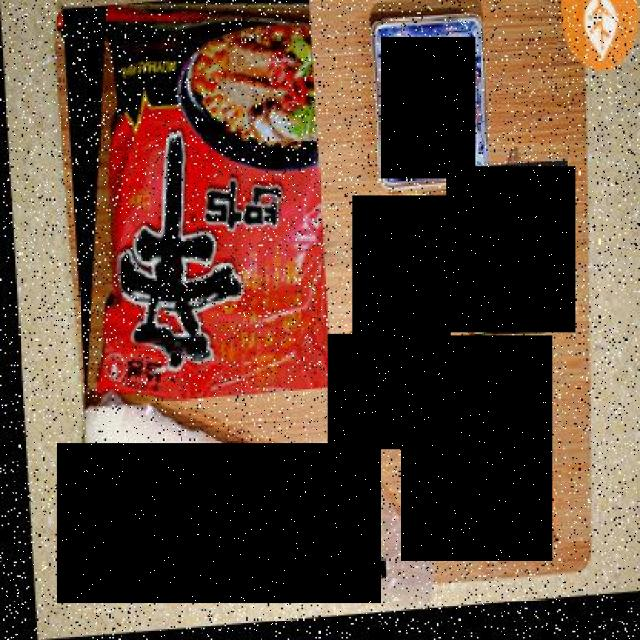Chili_Powder: (380, 36, 475, 179)
Egg: (328, 334, 420, 449)
Mushroom: (446, 166, 576, 332)
Onion: (353, 196, 452, 346)
Onion_Leaves: (400, 335, 552, 560)
Tofu: (57, 442, 380, 604)
